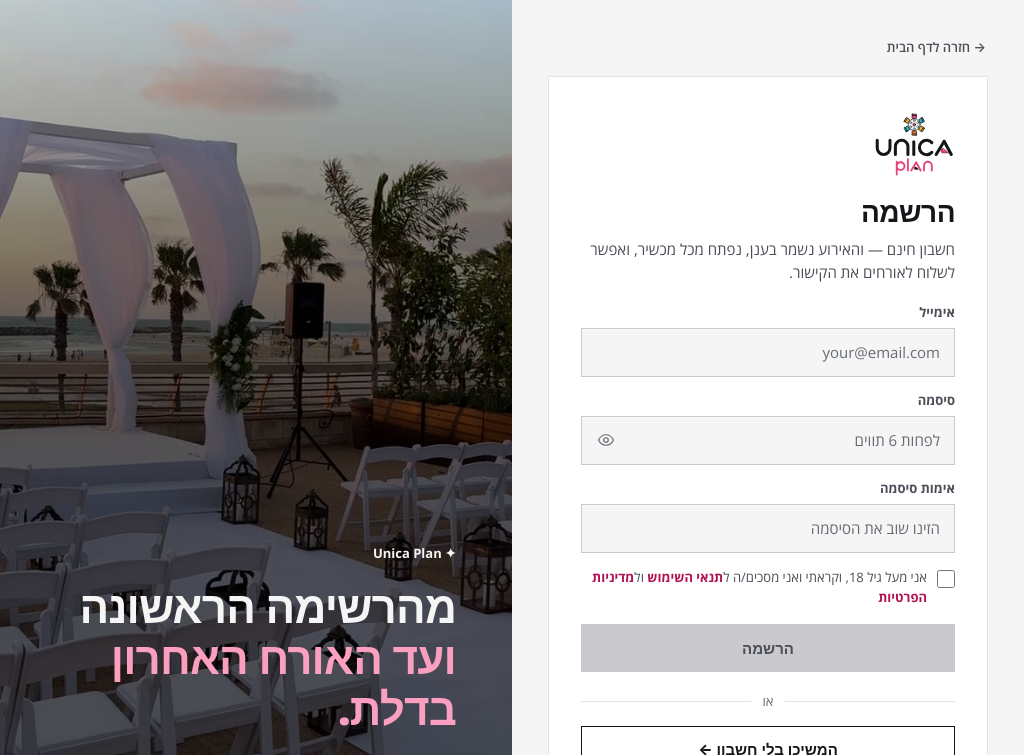
SignupScreen errors (37b) › {"name":"AuthApiError","status":500} → Hebrew
In the field labelled "אימייל": (768, 352) [581,328,955,377], type "a@b.co"
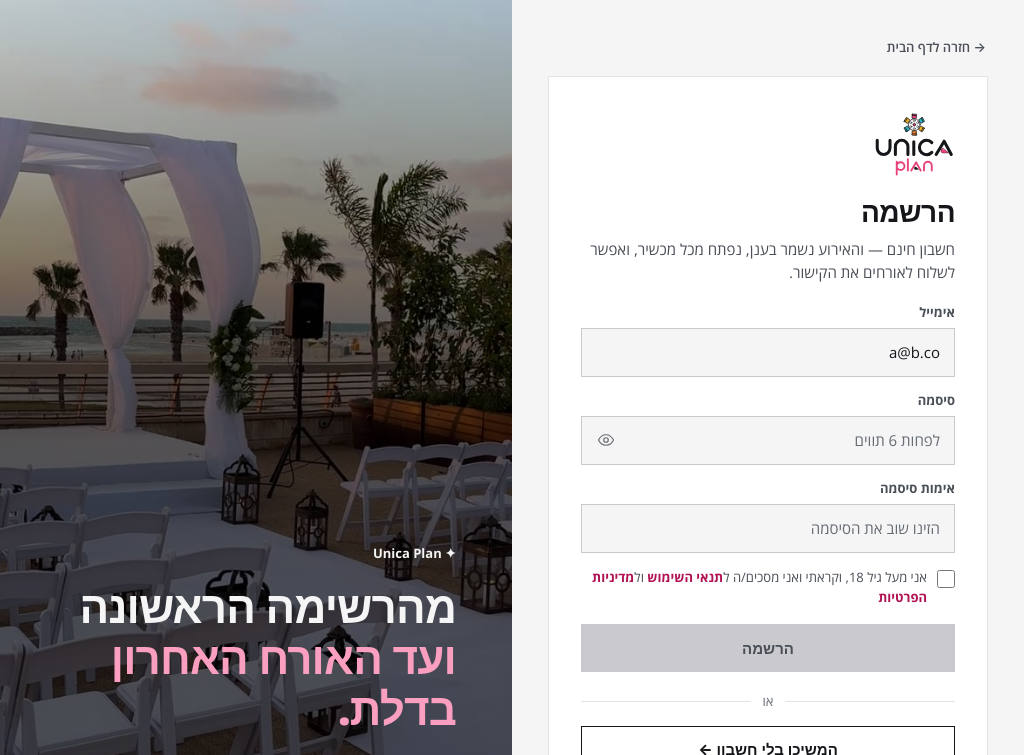
In the password field labelled "סיסמה": (768, 440) [581,416,955,465], type "secret1"
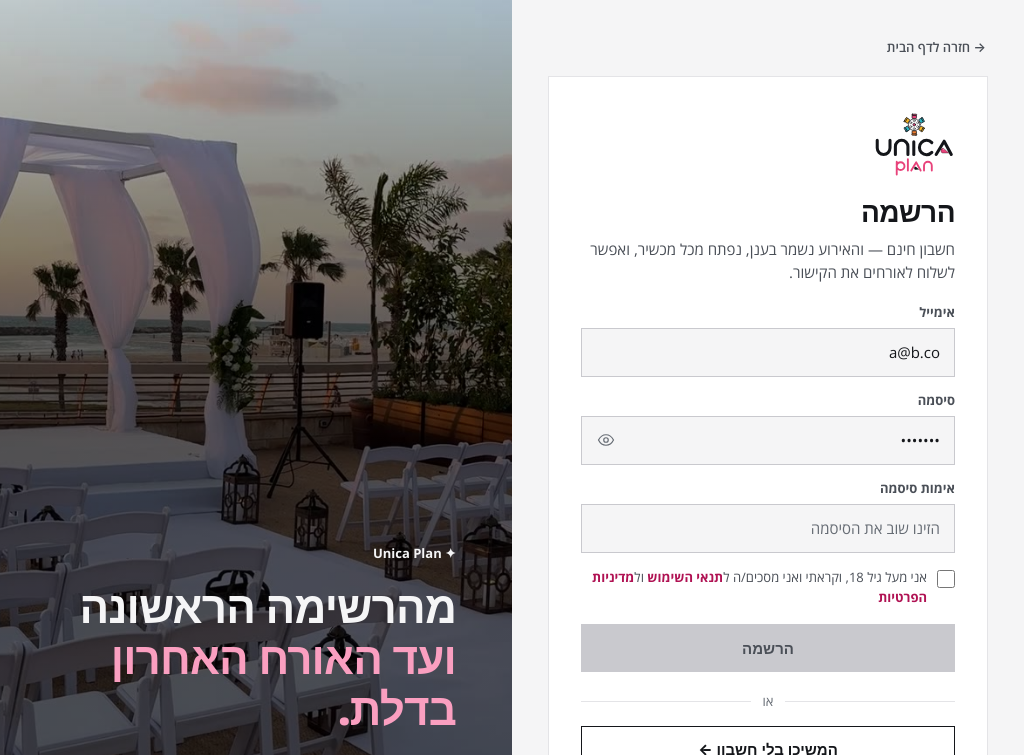
In the password field labelled "אימות סיסמה": (768, 528) [581,504,955,553], type "secret1"
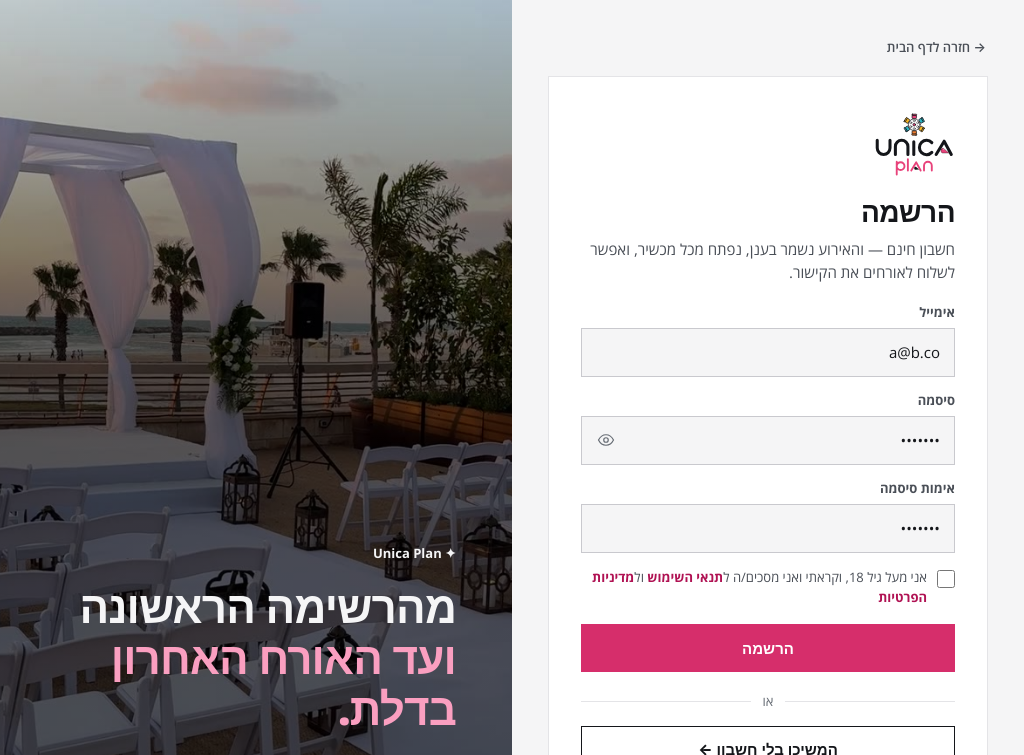
Click the checkbox: (946, 579) [937,570,955,588]
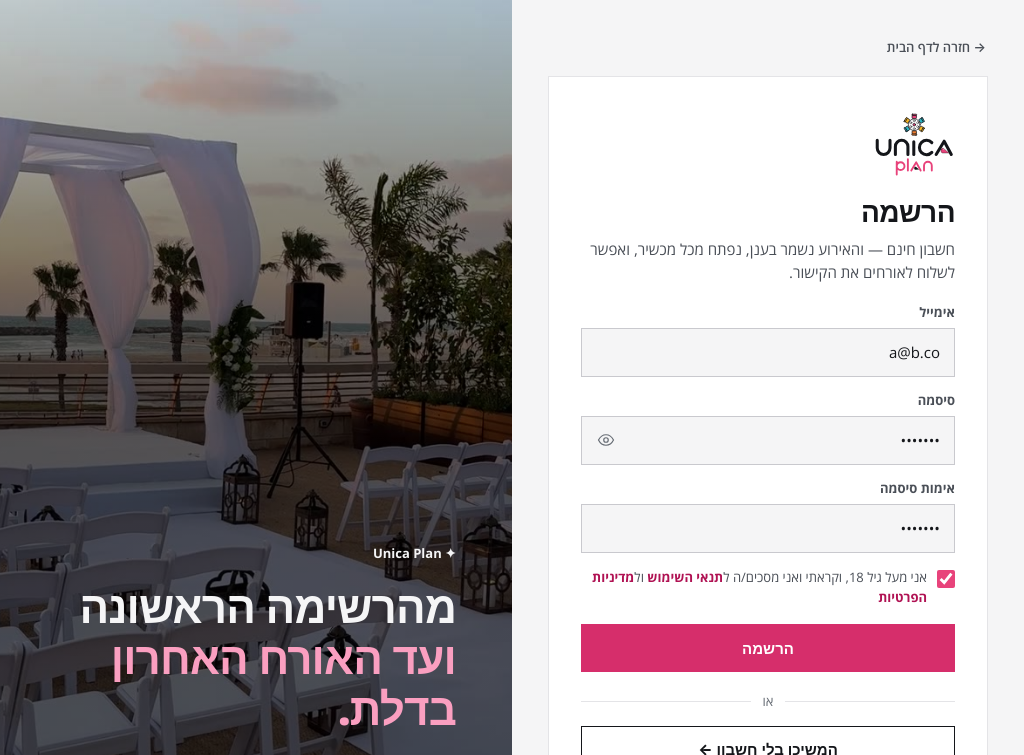
Submit the form labelled "אימייל", box [581,303,955,672]
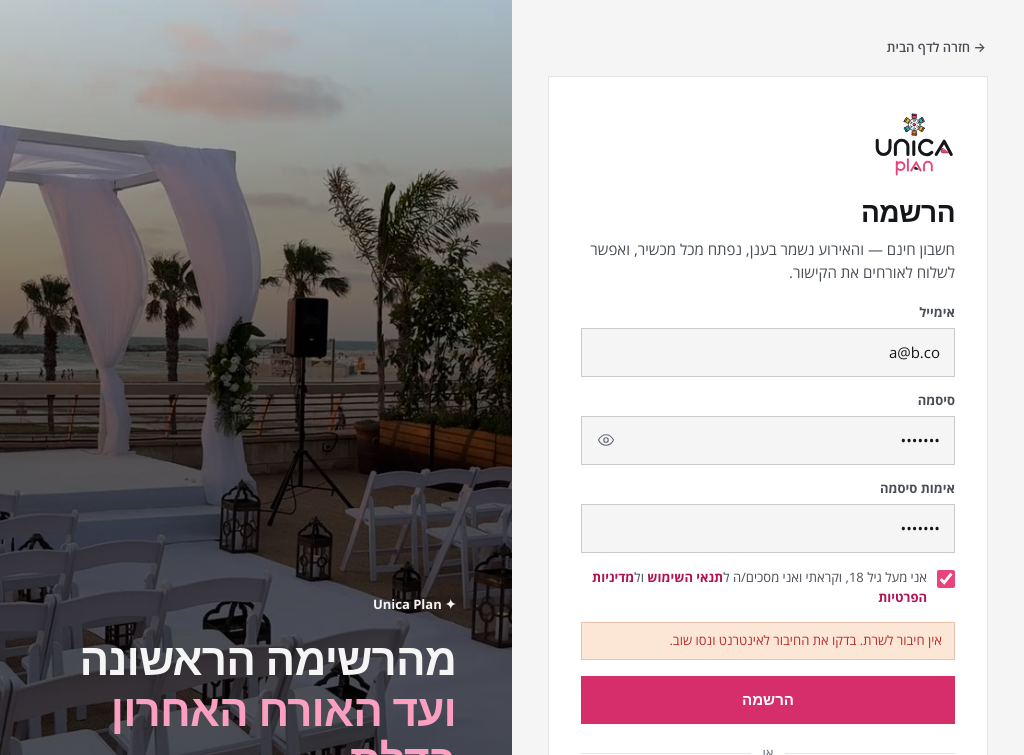
Now the message "אין חיבור לשרת. בדקו את החיבור לאינטרנט ונסו שוב." is shown, box [581,622,955,660]
